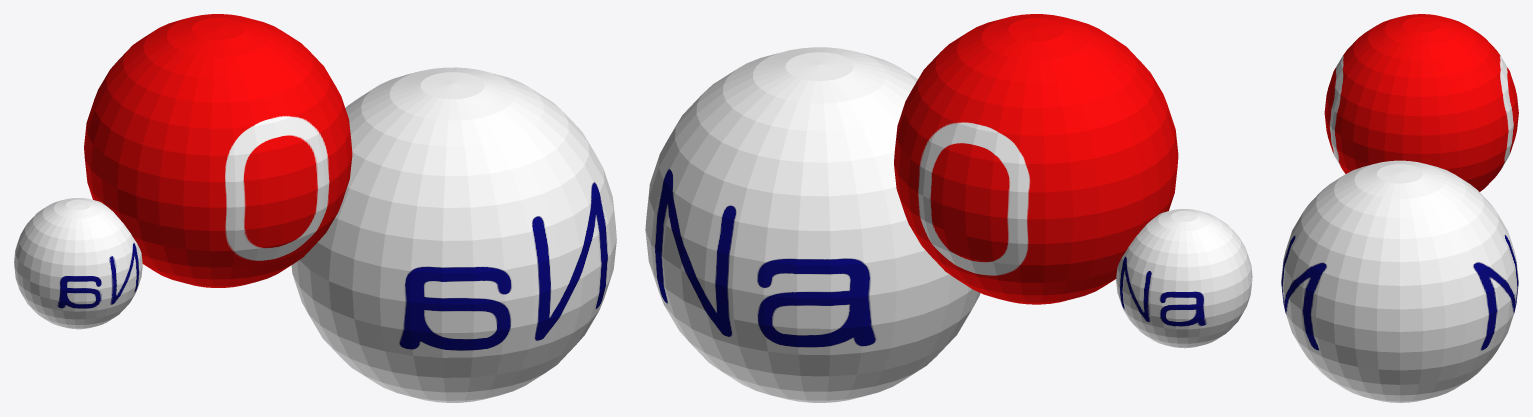
Rendered from naoh.fbx.
3 renders of one model, left to right at view 1: azimuth 30°, elevation 25°; view 2: azimuth 150°, elevation 25°; view 3: azimuth 270°, elevation 25°, orthographic. The views are drawn at different scales.
Visible parts, largest first — view 1: Sphere.003, Sphere.002, Sphere; view 2: Sphere.003, Sphere.002, Sphere; view 3: Sphere.003, Sphere.002.
Part boxes in pixels (box(x1,y1,x2,y2)): Sphere.003: box(291, 67, 616, 402); Sphere.002: box(84, 14, 352, 287); Sphere: box(14, 198, 142, 329); Sphere.003: box(645, 47, 980, 402); Sphere.002: box(894, 14, 1178, 304); Sphere: box(1116, 209, 1252, 348); Sphere.003: box(1281, 160, 1518, 402); Sphere.002: box(1324, 14, 1518, 191).
Bounding box in the file's own units: 677 × 466 × 347.
